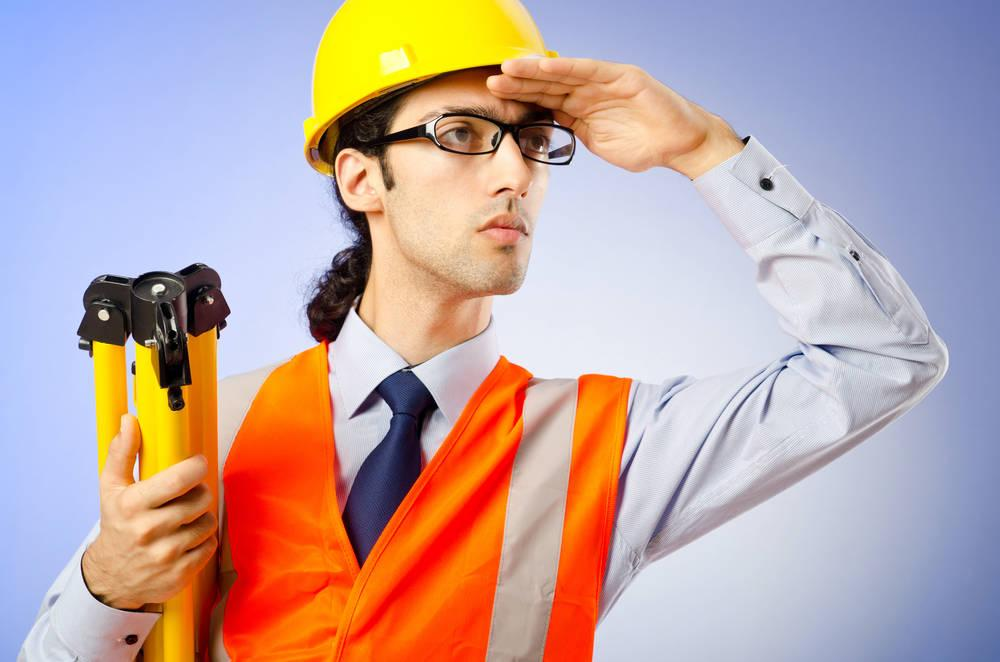helmet: (302, 1, 570, 178)
